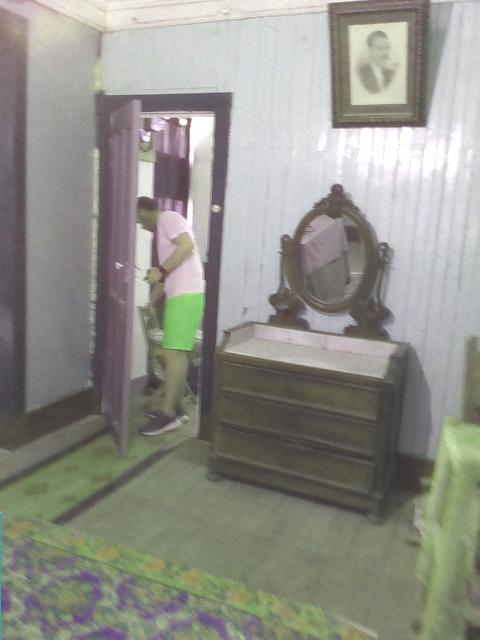semi_door: (92, 89, 230, 462)
